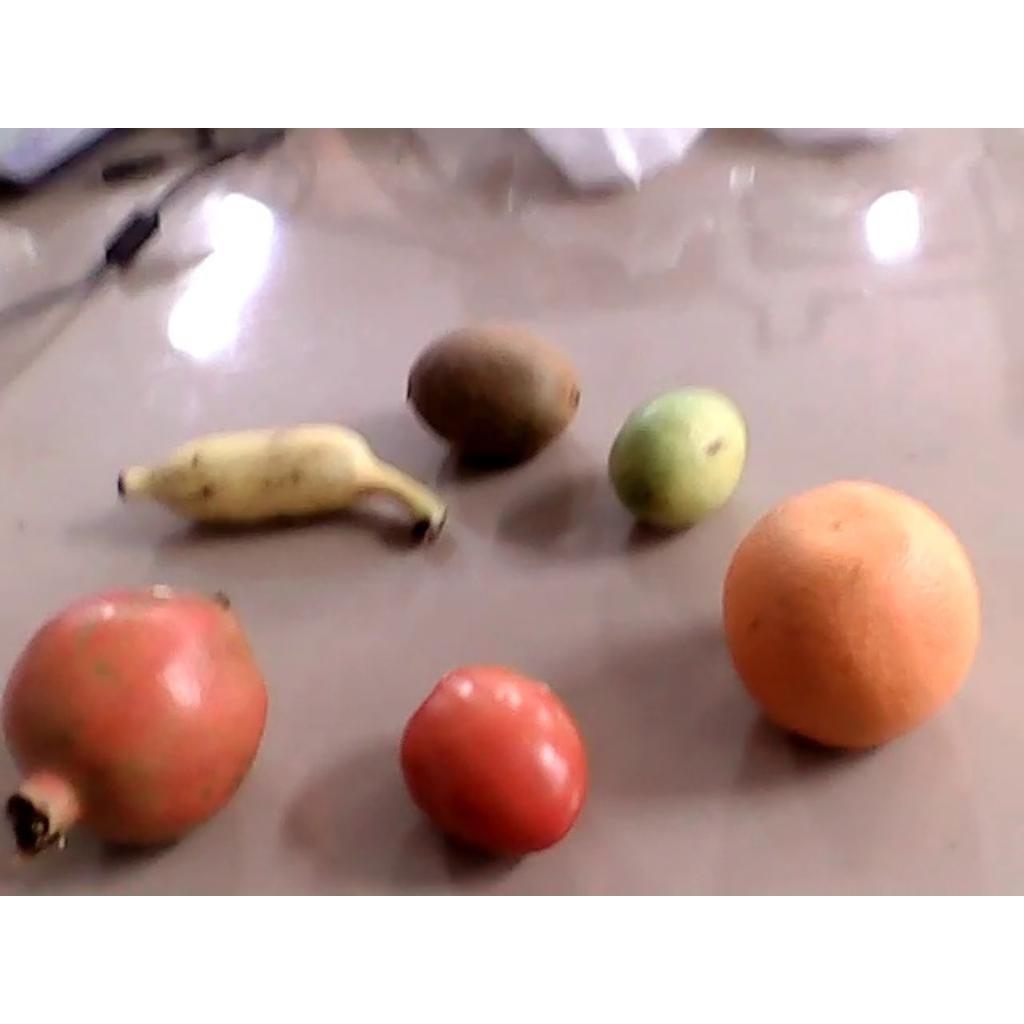kiwi: (407, 323, 581, 459)
lemon: (608, 384, 748, 525)
orange: (722, 477, 983, 751)
pomegranate: (0, 585, 270, 858)
tomato: (400, 666, 589, 856)
